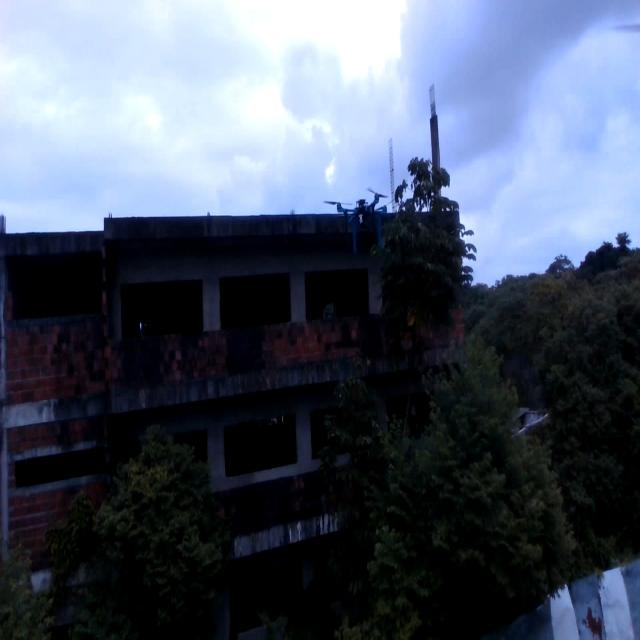-uav-: (325, 173, 397, 273)
